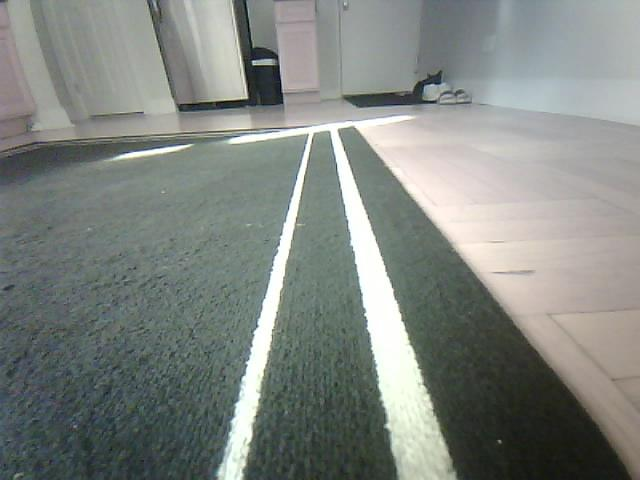road-line: (335, 162, 464, 480), (208, 162, 309, 480)
